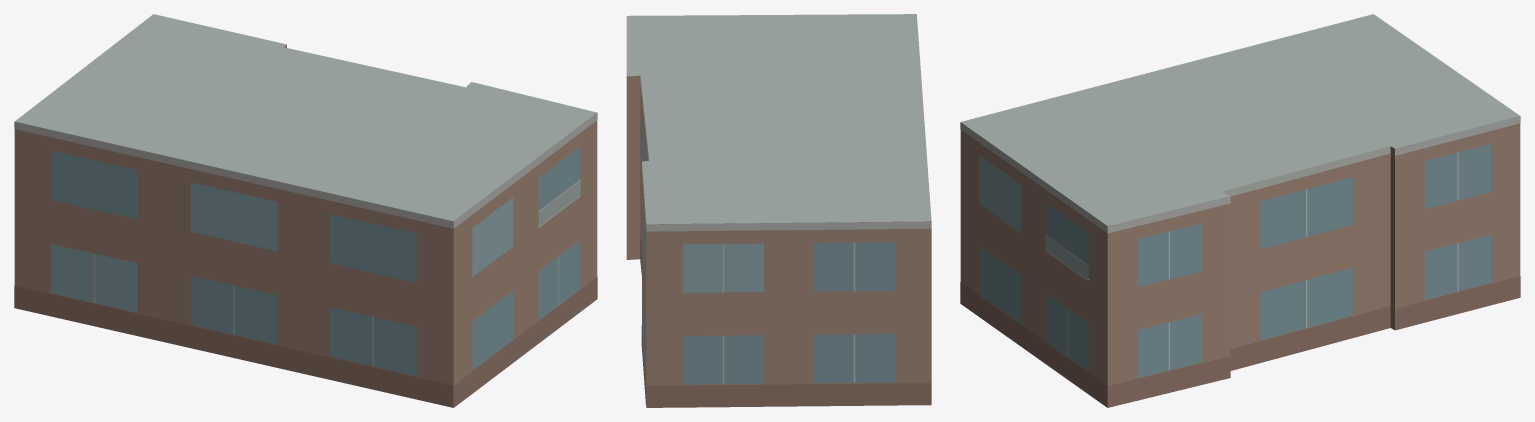
File: survey-upis-32655101.glb
3 views of the same model, side by side, from view 1: azimuth 30°, elevation 25°; view 2: azimuth 150°, elevation 25°; view 3: azimuth 270°, elevation 25° (orthographic). The views are drawn at different scales.
Parts seen in each view (by area): view 1: survey-upis-32655101.tmp; view 2: survey-upis-32655101.tmp; view 3: survey-upis-32655101.tmp.
Boxes of the visible parts, x1,y1,x2,y2 form: survey-upis-32655101.tmp: (14, 14, 597, 407); survey-upis-32655101.tmp: (626, 14, 931, 407); survey-upis-32655101.tmp: (960, 14, 1520, 407).
Size of the model in its own units: 15.29 by 6.1 by 17.05.
